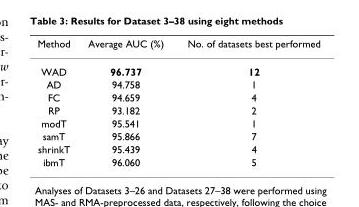table: (36, 37, 319, 167)
table column: (174, 37, 319, 167), (78, 37, 174, 167), (36, 37, 78, 167)
table column header: (36, 37, 319, 56)
table row: (36, 56, 319, 77), (36, 37, 319, 56), (36, 77, 319, 90), (36, 90, 319, 103), (36, 103, 319, 116), (36, 116, 319, 129), (36, 129, 319, 142), (36, 142, 319, 155), (36, 155, 319, 167)
